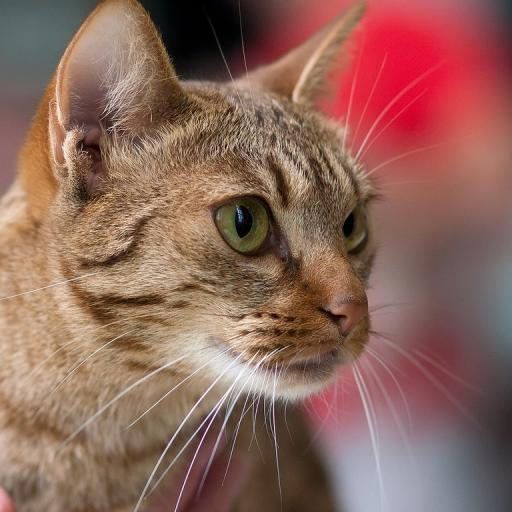cat: (0, 0, 377, 512)
